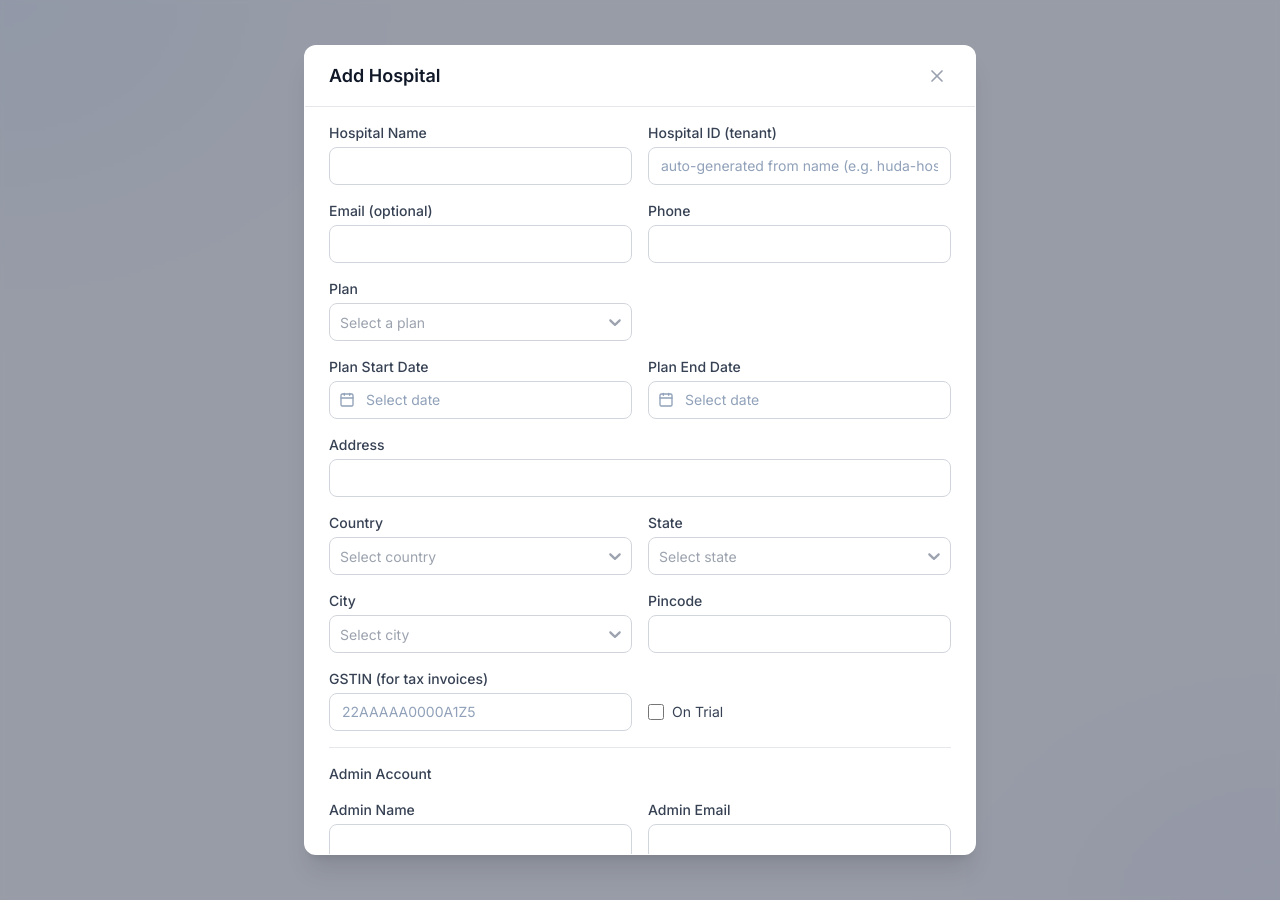
HospitalForm › shows a digits-in-name validation error rather than submitting
Type "Hosp1tal" into the field named "name" below "Hospital Name" at (480, 166), box [329,147,632,185]
(page scrolled)
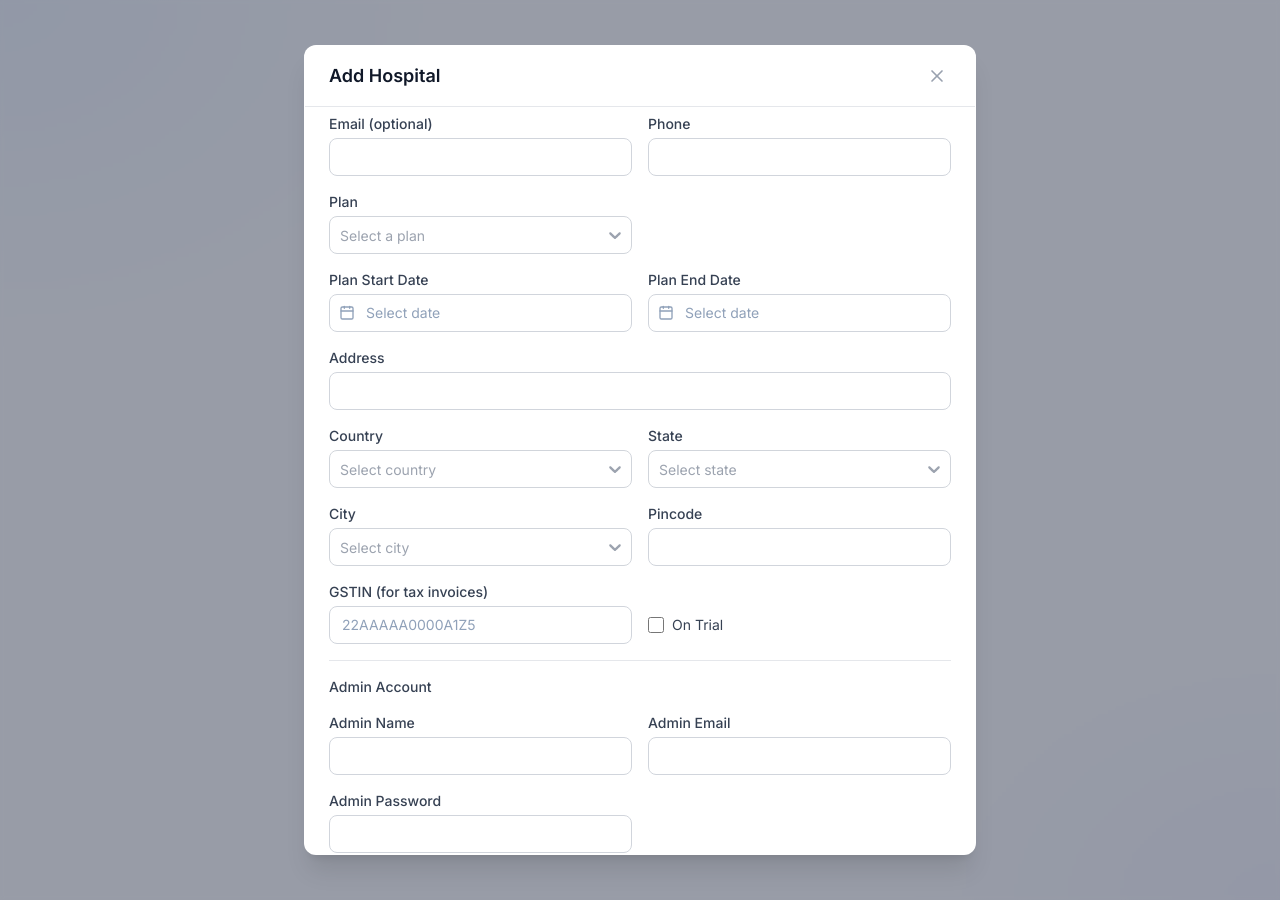
Submit the form named "create hospital"
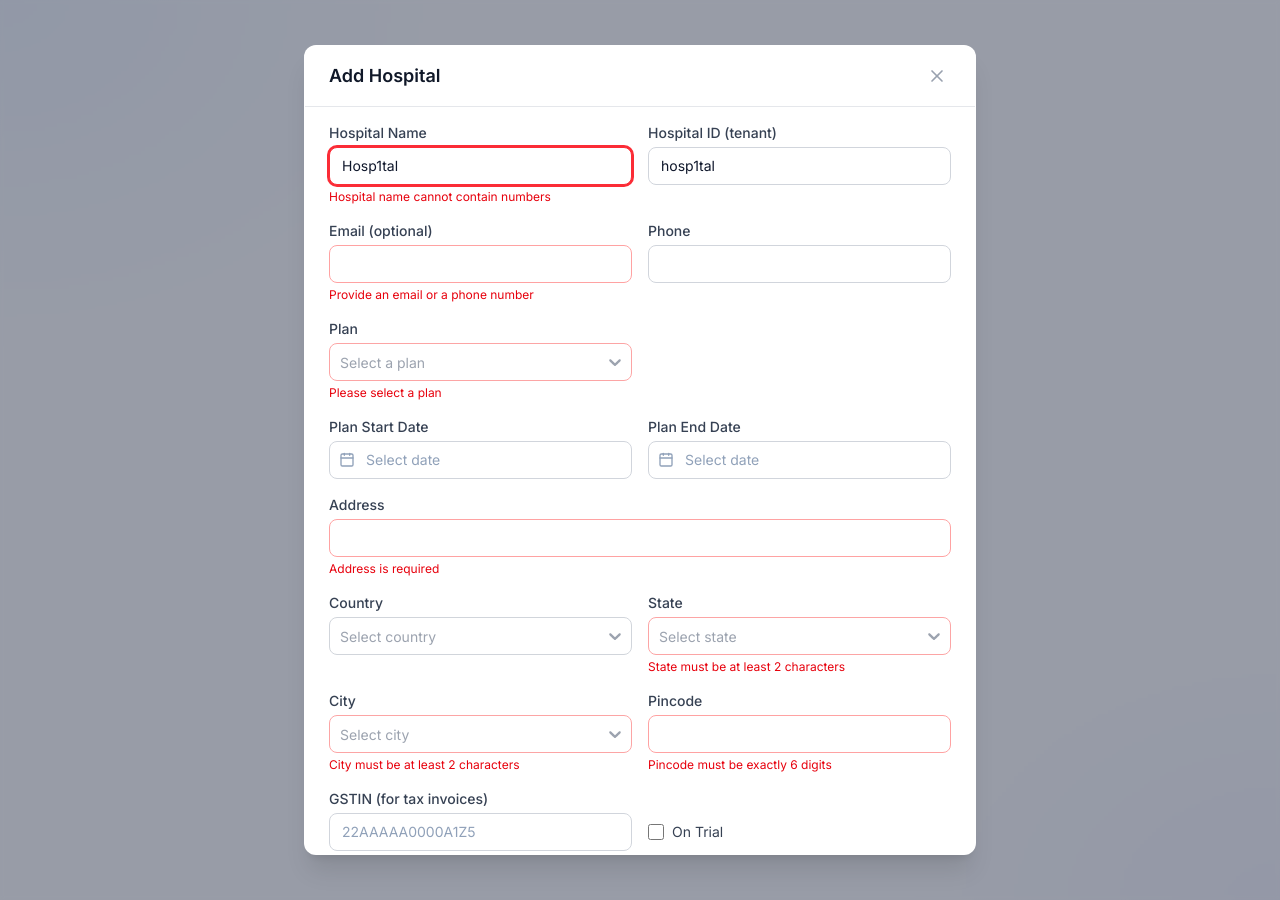
Result: the text "Hospital name cannot contain numbers" is shown at [329,189,551,204]
